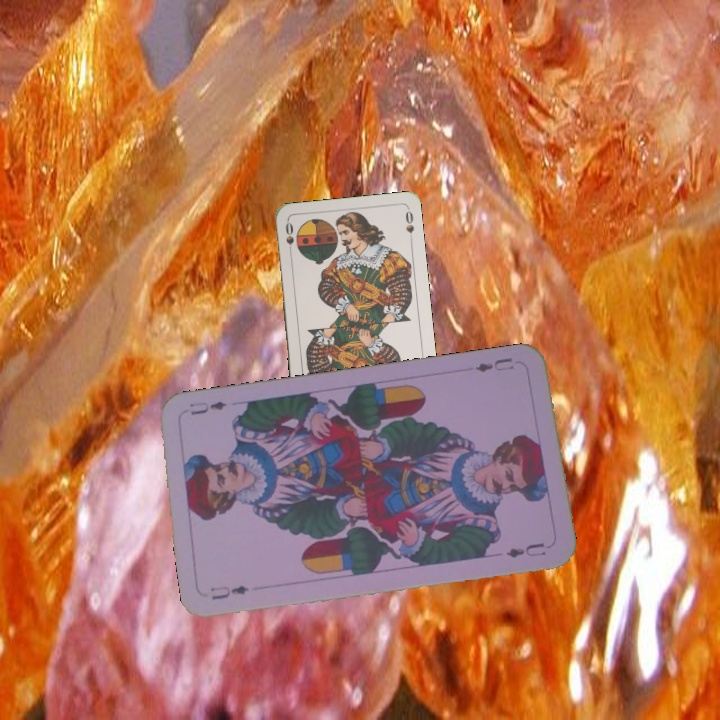EU: (206, 581, 252, 602), (472, 354, 516, 375)
SO: (281, 218, 297, 259)
